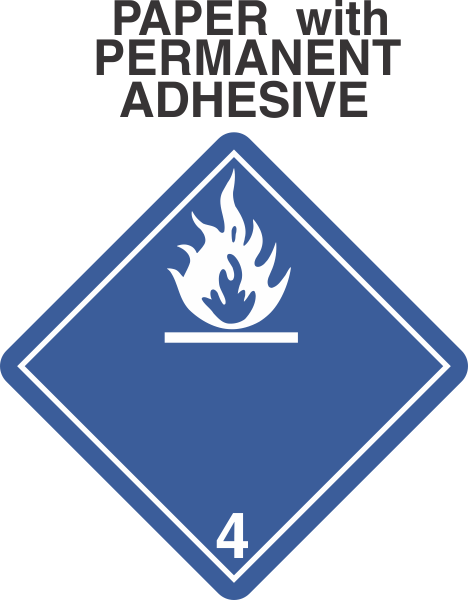Dangerous when wet: (1, 133, 468, 600)
